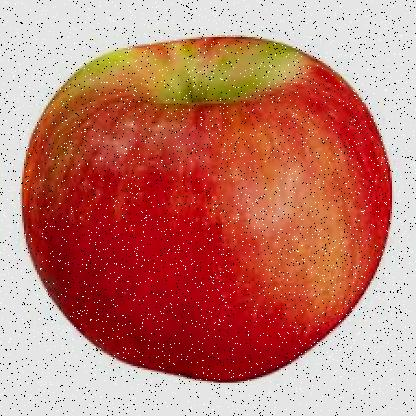apple: (20, 33, 384, 383)
